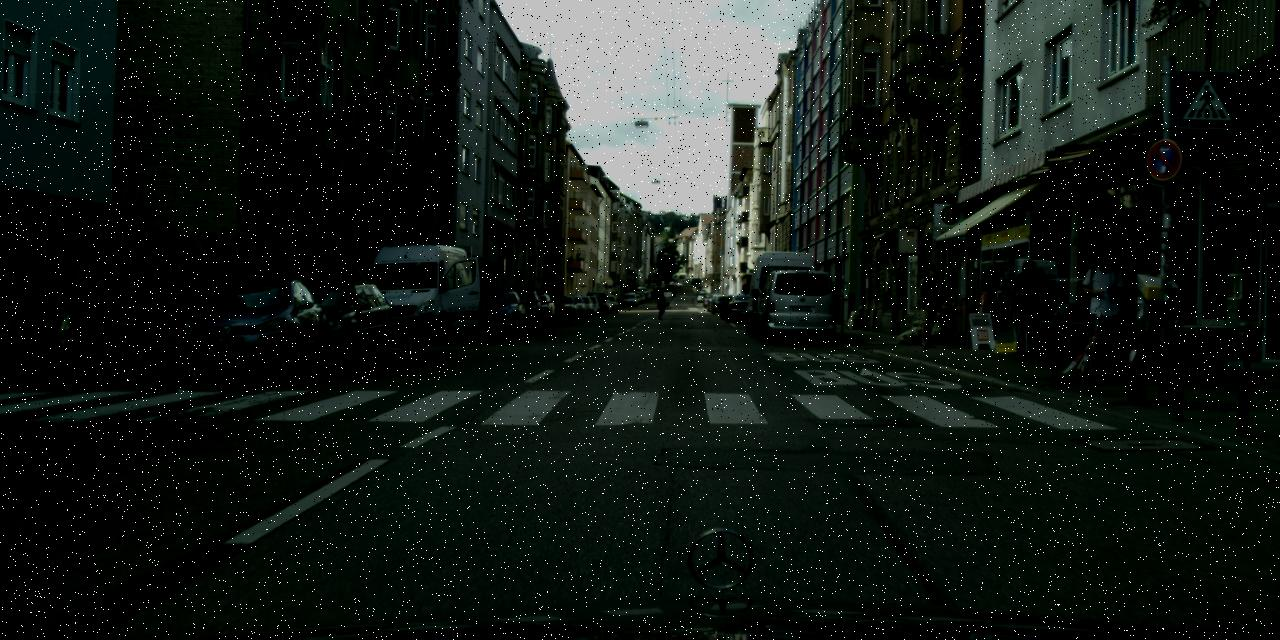ped: (1075, 248, 1126, 372), (1008, 259, 1048, 360), (911, 263, 946, 348), (64, 268, 98, 348), (654, 288, 666, 318)
